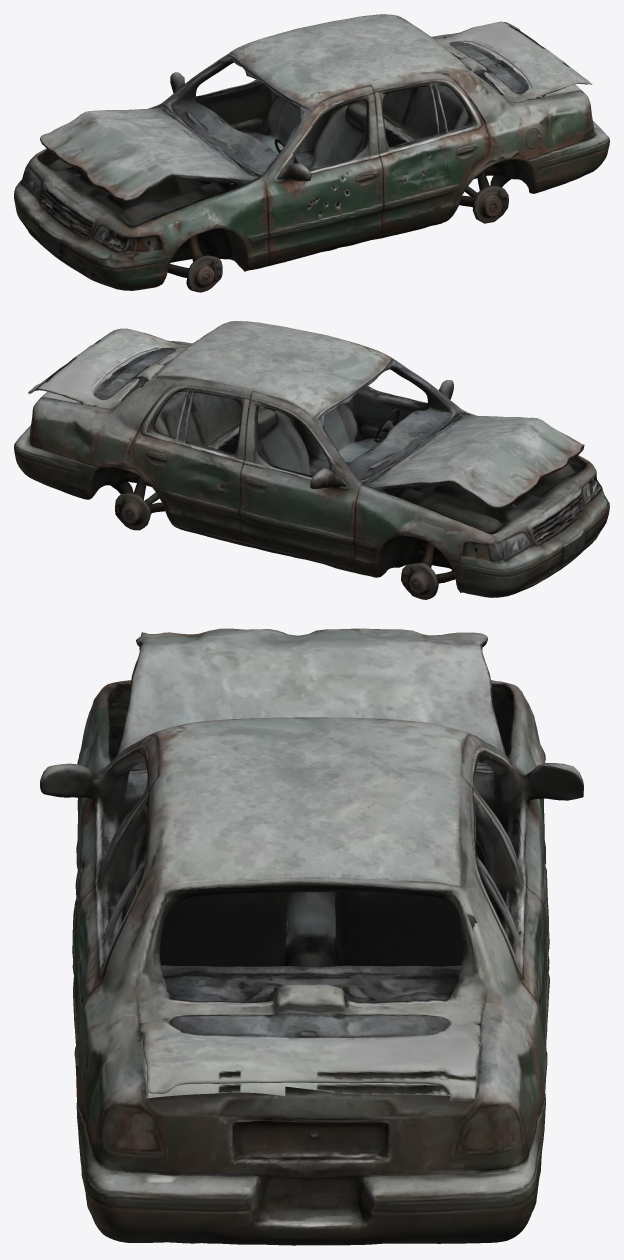
Rendered from wrecked+car+3d+model.glb.
3 views of the same model, one above another, from view 1: azimuth 30°, elevation 25°; view 2: azimuth 150°, elevation 25°; view 3: azimuth 270°, elevation 25° (orthographic). The views are drawn at different scales.
Visible parts, largest first — view 1: tripo_node_689be0e7-b5e0-4ddf-94e3-4567f60e3417; view 2: tripo_node_689be0e7-b5e0-4ddf-94e3-4567f60e3417; view 3: tripo_node_689be0e7-b5e0-4ddf-94e3-4567f60e3417.
Part boxes in pixels (x1,y1,x2,y2): tripo_node_689be0e7-b5e0-4ddf-94e3-4567f60e3417: (14,14,609,292); tripo_node_689be0e7-b5e0-4ddf-94e3-4567f60e3417: (14,321,609,599); tripo_node_689be0e7-b5e0-4ddf-94e3-4567f60e3417: (40,628,583,1245).
Size of the model in its own units: 0.9989 by 0.2965 by 0.456.
Materials: 1 (1 with a texture image).
